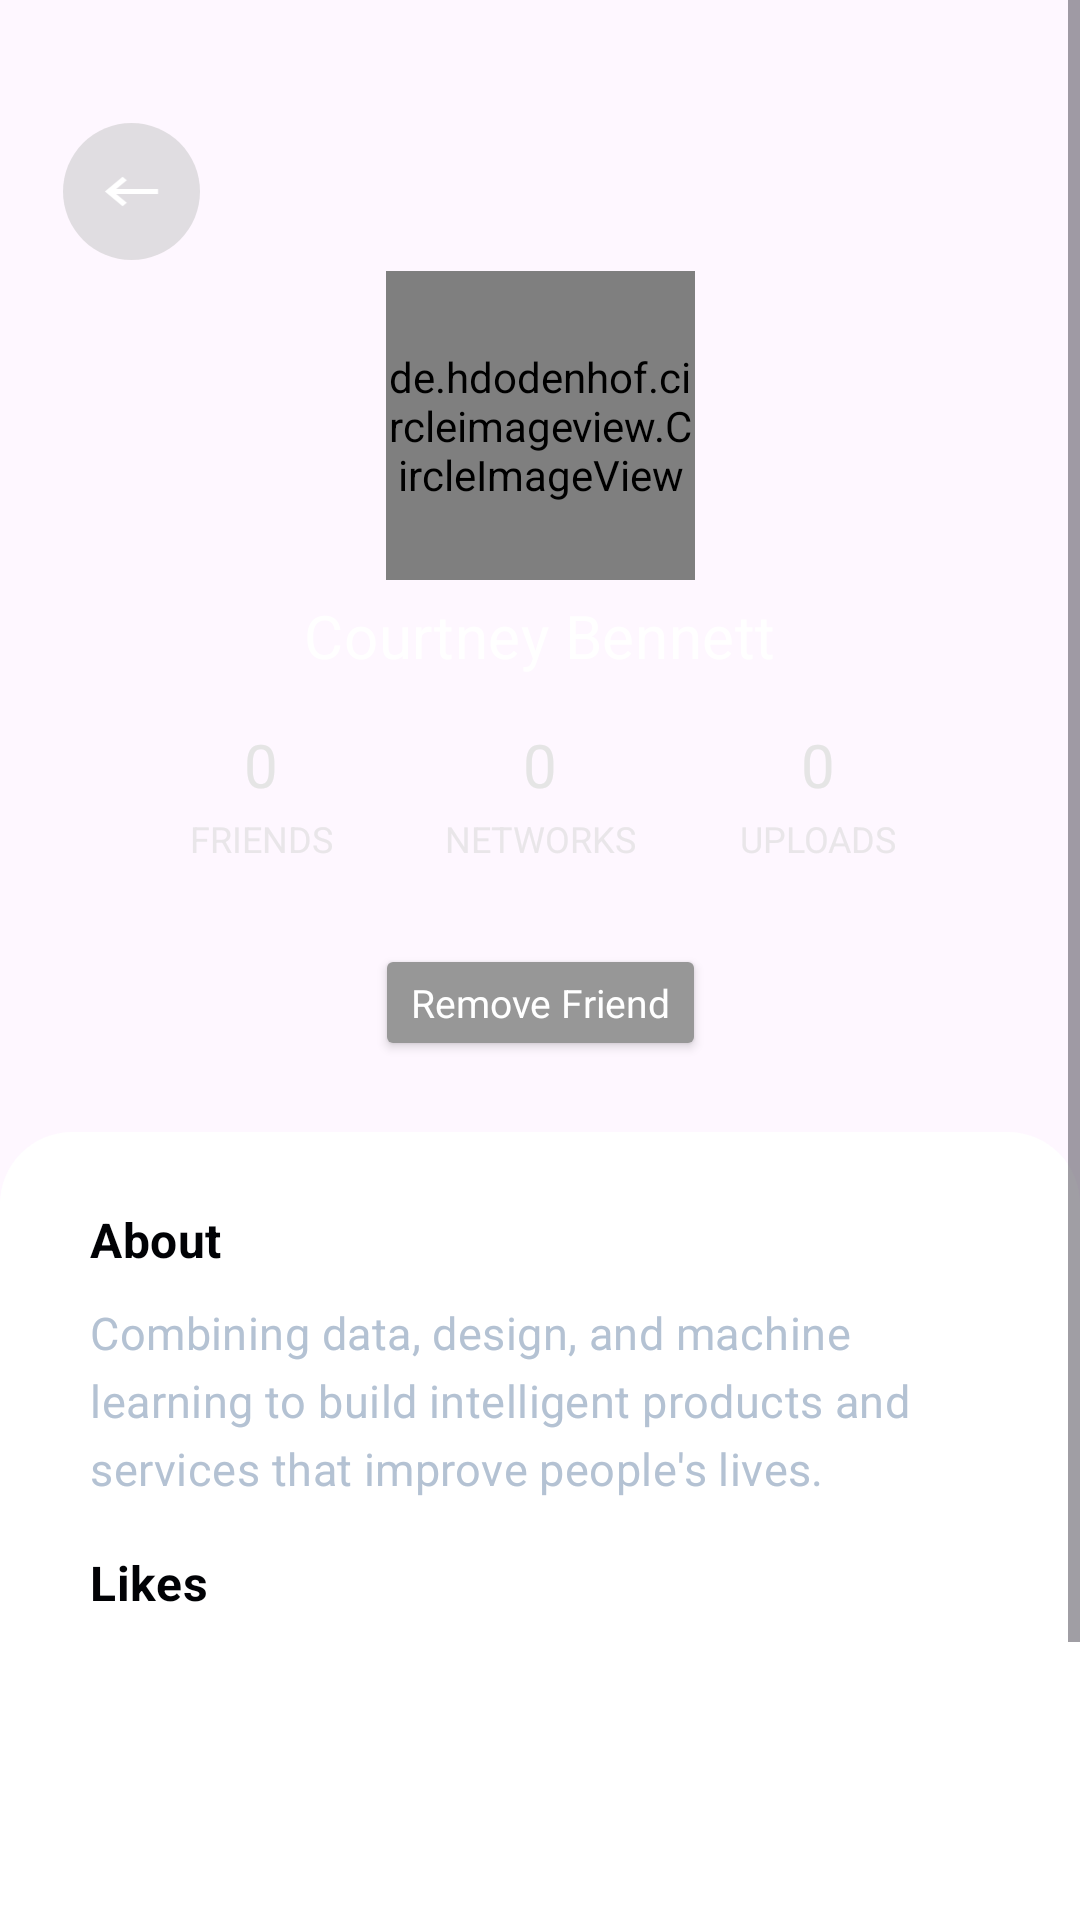

Icon click points for this 1080 x 1920 phone screenshot, format (x,y):
back: (131,191)
